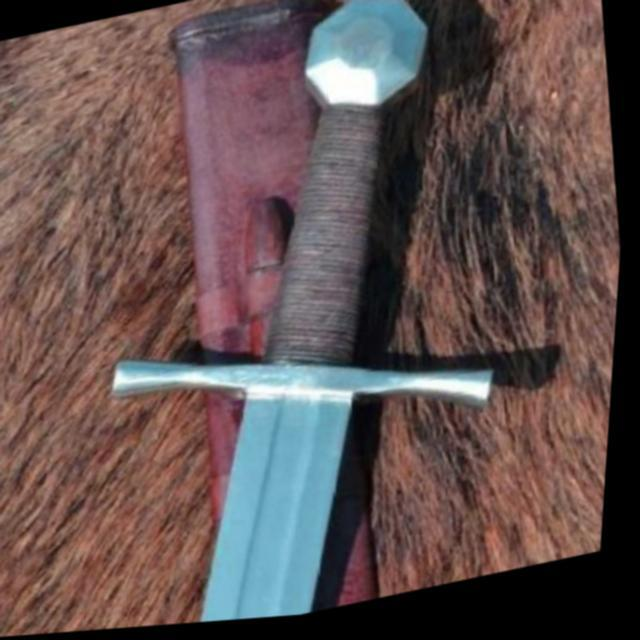weapon: (65, 0, 538, 634)
